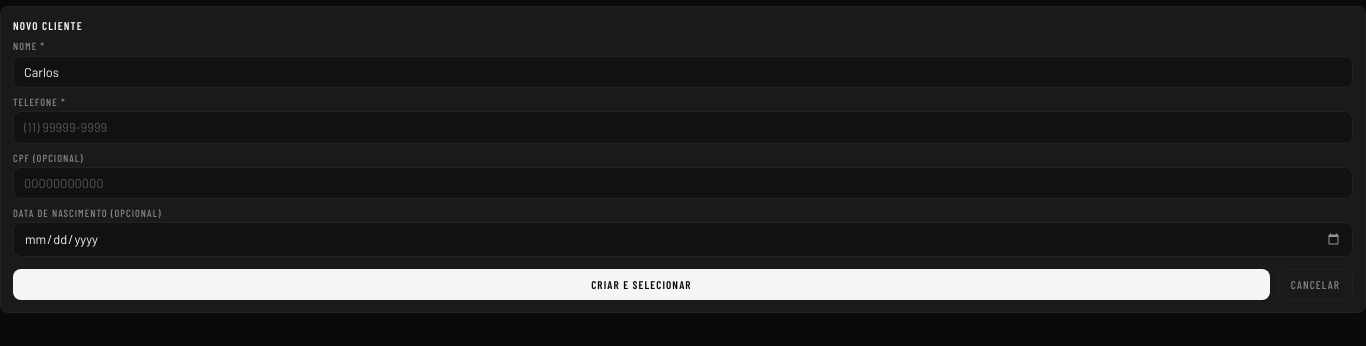
Test: QuickCreateCustomerForm › shows server validation errors mapped per field
In the field with placeholder "(11) 99999-9999": [683, 127] box top-left (13, 111), bottom-right (1353, 144), type "11999999999"
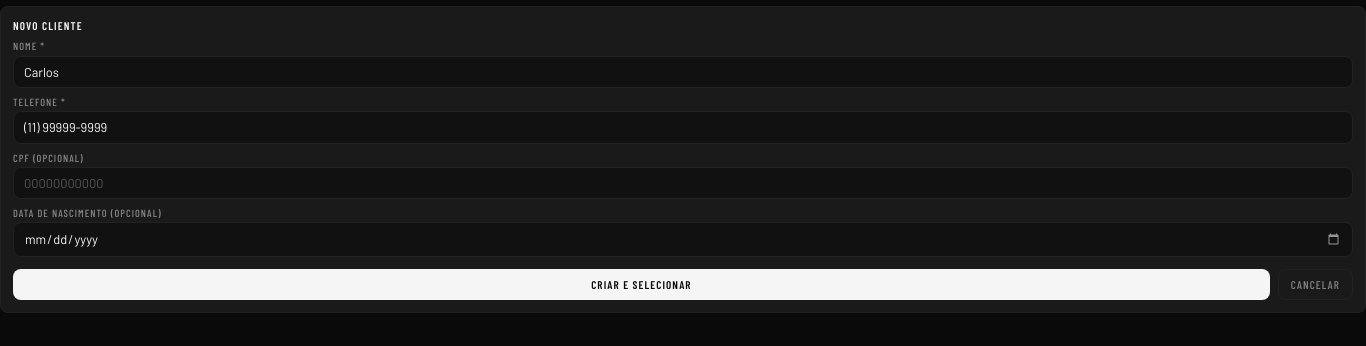
In the field with placeholder "00000000000": [683, 183] box top-left (13, 167), bottom-right (1353, 199), type "12345678909"
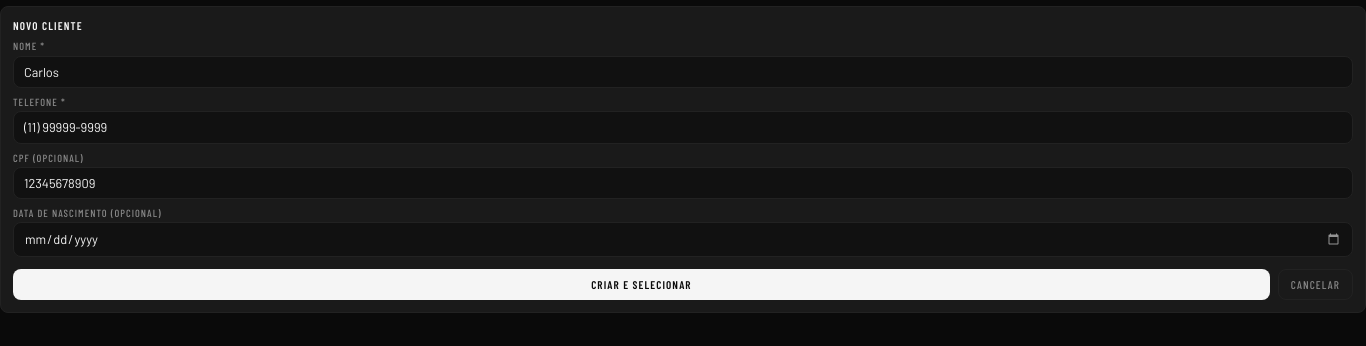
Click the button with test id "quick-create-submit": [641, 284] box top-left (13, 269), bottom-right (1270, 300)
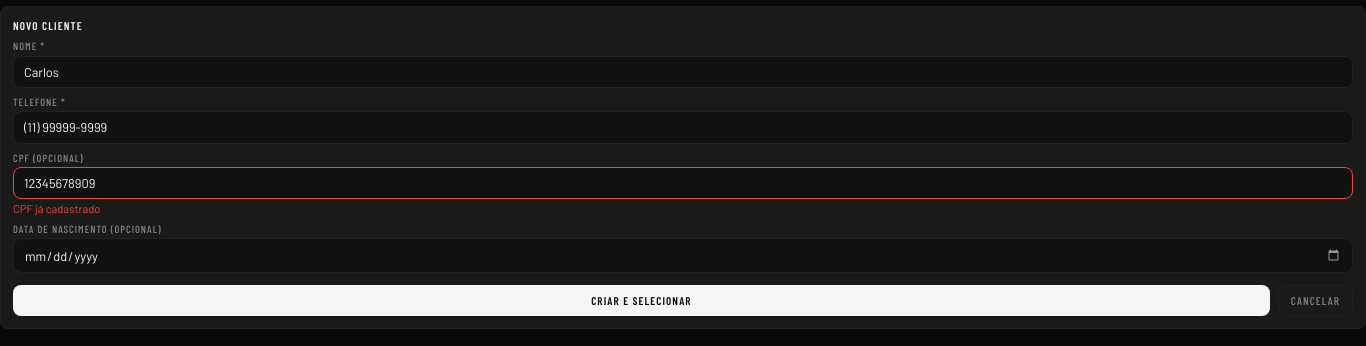
Now the text "CPF já cadastrado" is shown, box top-left (13, 202), bottom-right (100, 215)
